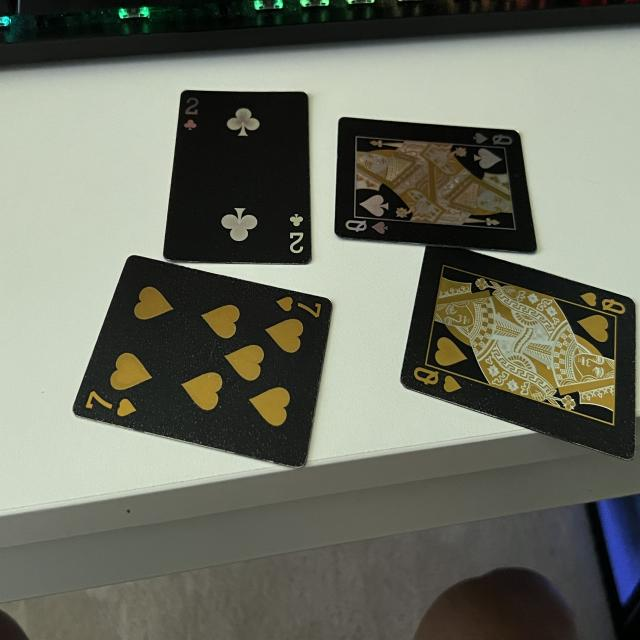2C: (283, 213, 308, 259), (184, 92, 204, 134)
7H: (78, 390, 148, 426), (274, 287, 325, 328)
QH: (412, 361, 468, 404), (581, 286, 635, 320)
QS: (346, 213, 388, 242), (467, 124, 512, 148)
